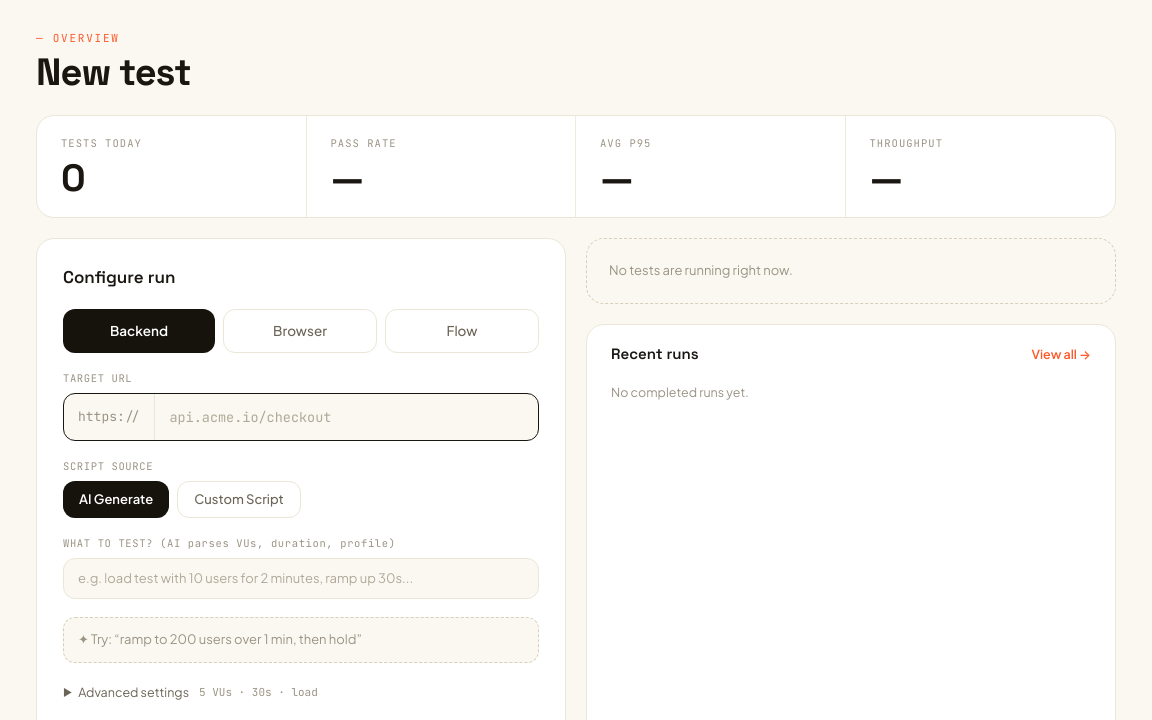
Scenario: Home page — form validation › falls back to a generic message when createTest rejects without an Error
In the field with placeholder "api.acme.io/checkout": (347,417) [155,407,538,427], type "https://test.com"
(page scrolled)
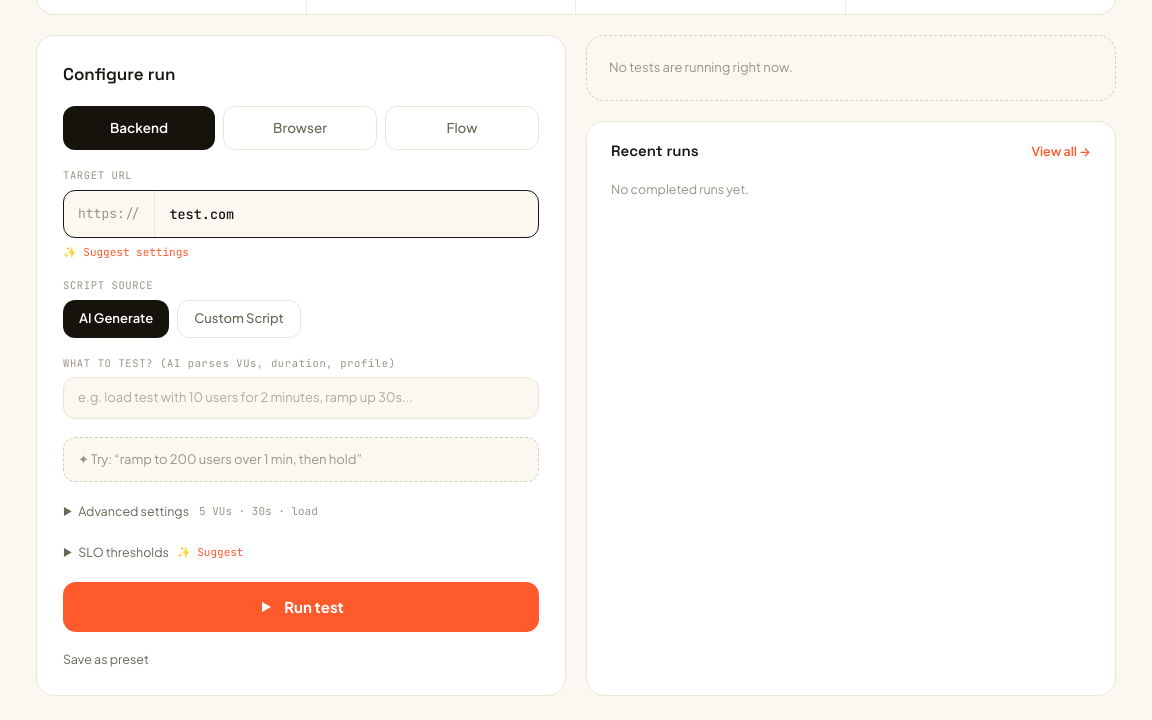
Click the button "Run test": (301,607) [63,582,539,632]
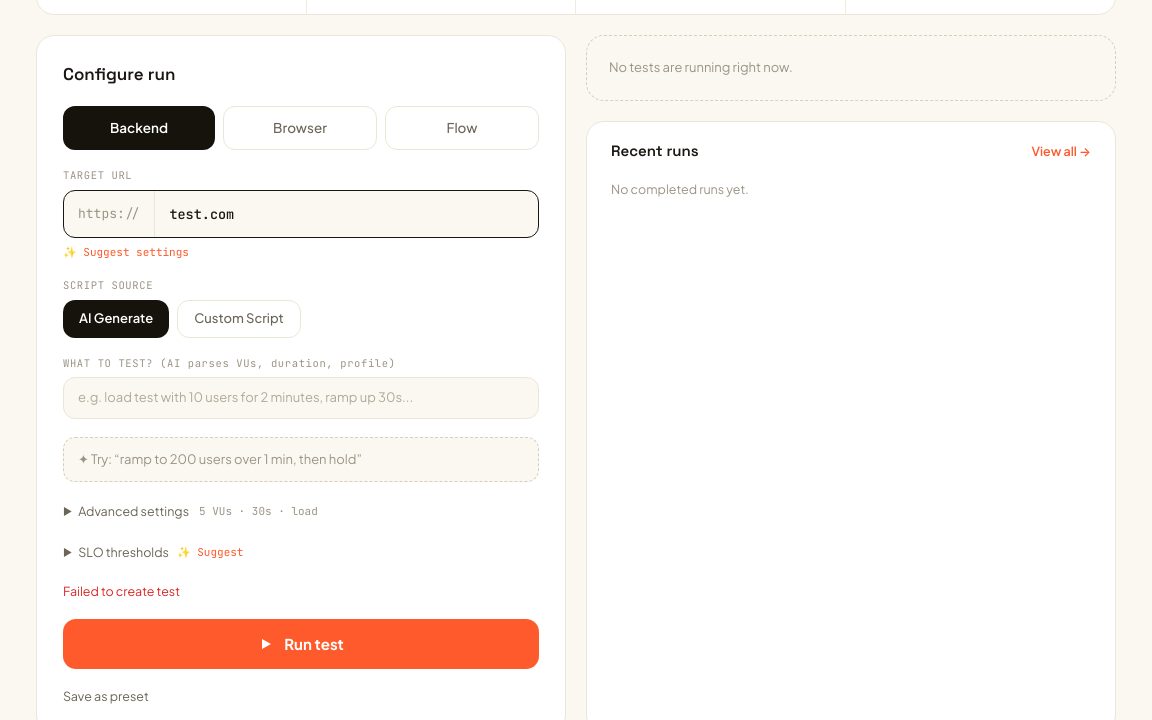
Expected: the text "Failed to create test" is shown, [63,583,180,599]
